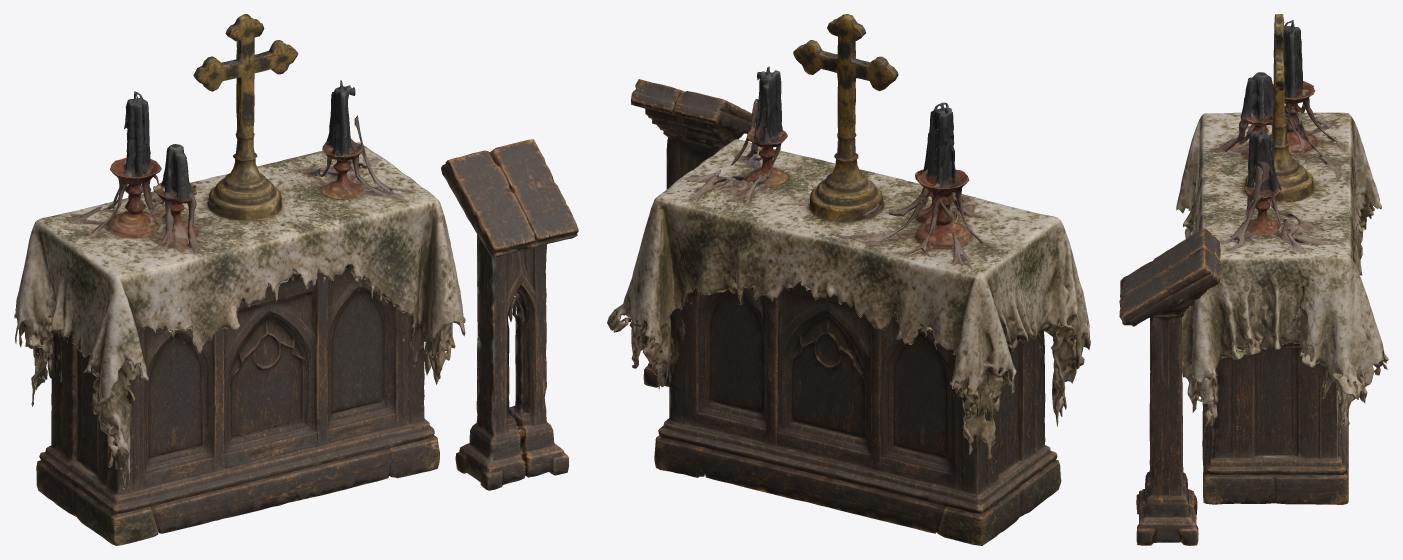
Rendered from Altar.fbx.
3 views of the same model, side by side, from view 1: azimuth 30°, elevation 25°; view 2: azimuth 150°, elevation 25°; view 3: azimuth 270°, elevation 25° (orthographic). The views are drawn at different scales.
Parts seen in each view (by area): view 1: texture_mapping; view 2: texture_mapping; view 3: texture_mapping.
Boxes of the visible parts, box(x1,y1,x2,y2) form: texture_mapping: box(14, 14, 578, 545); texture_mapping: box(607, 14, 1090, 545); texture_mapping: box(1119, 14, 1388, 545).
Bounding box in the file's own units: 0.9995 × 0.5699 × 0.9866.
1 material, 1 textured.
